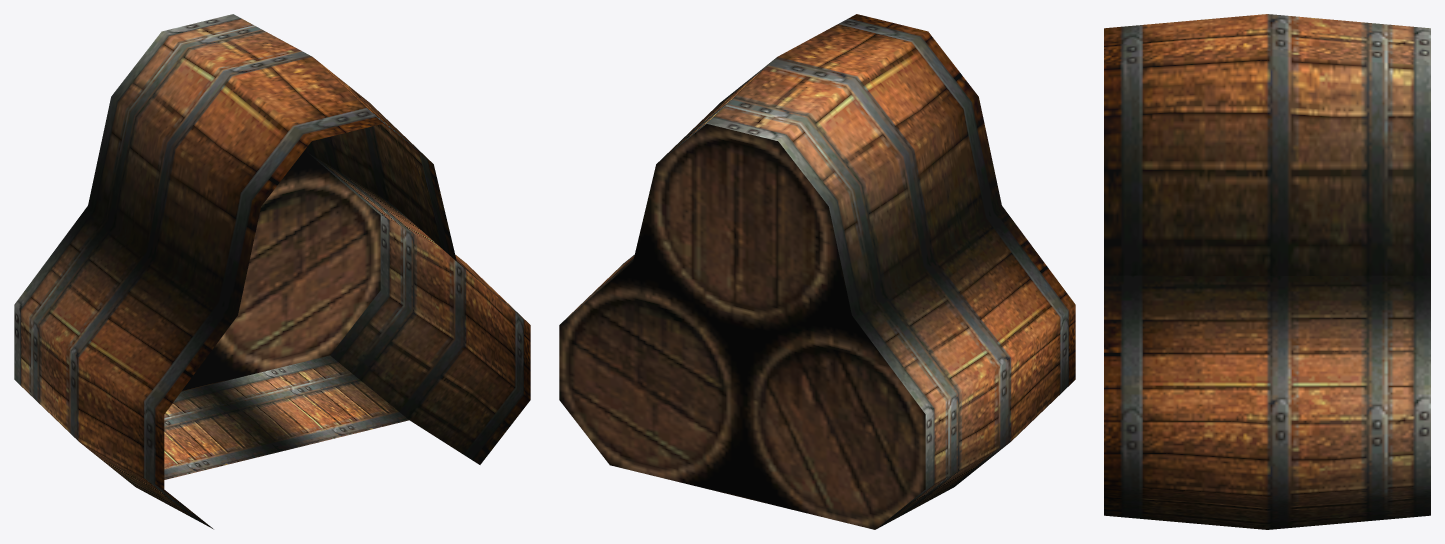
The model's file is bochka2.glb.
3 renders of one model, left to right at view 1: azimuth 30°, elevation 25°; view 2: azimuth 150°, elevation 25°; view 3: azimuth 270°, elevation 25°, orthographic. The views are drawn at different scales.
Visible parts, largest first — view 1: bochka2-col; view 2: bochka2-col; view 3: bochka2-col.
Part boxes in pixels (left/top/right/bottom): bochka2-col: left=14, top=14, right=530, bottom=529; bochka2-col: left=559, top=14, right=1075, bottom=529; bochka2-col: left=1104, top=14, right=1430, bottom=529.
Size of the model in its own units: 1.66 by 1.58 by 1.11.
Materials: 2 (2 with a texture image).
